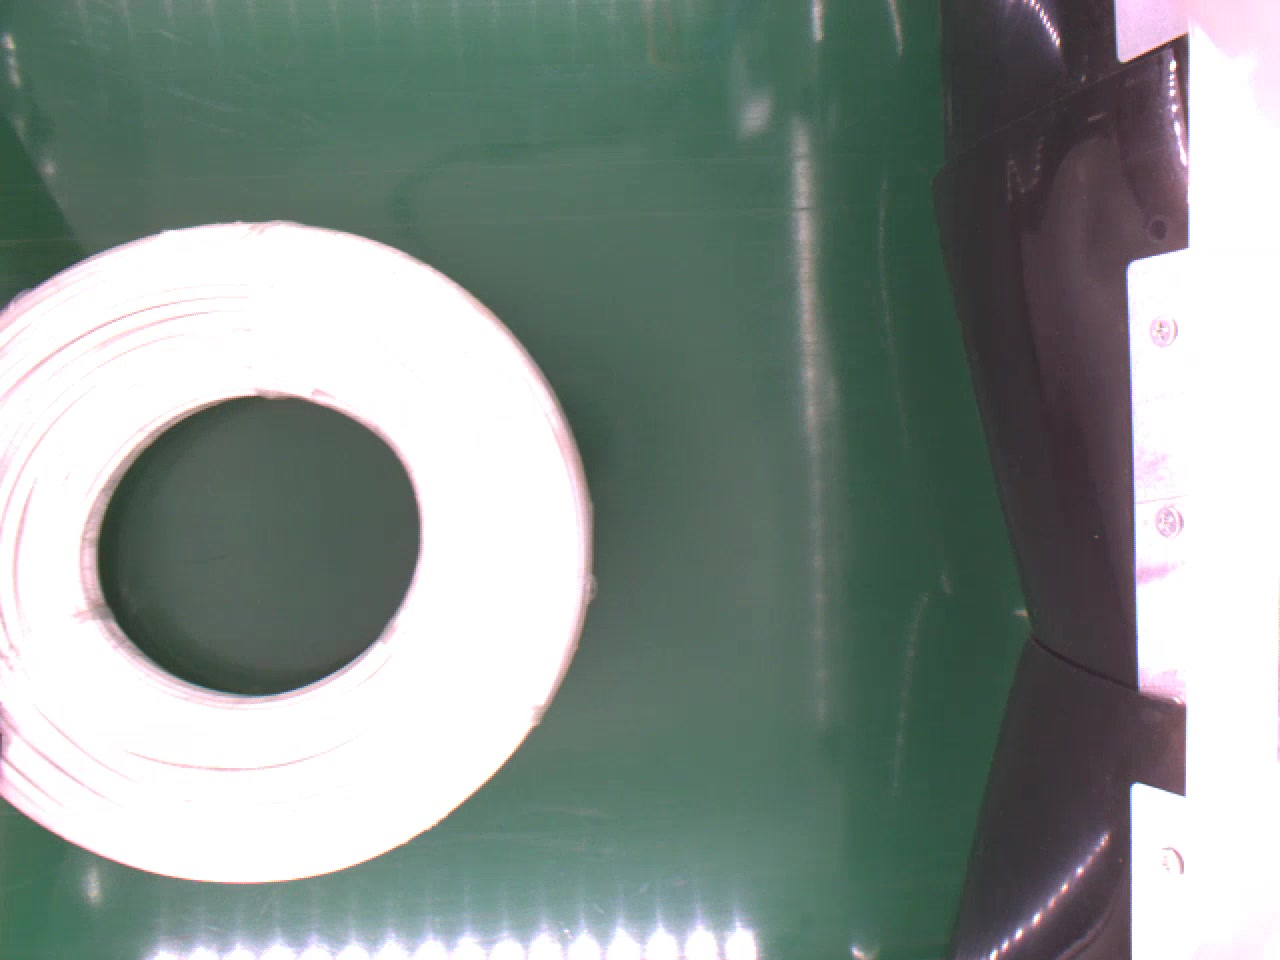white: (0, 214, 594, 886)
